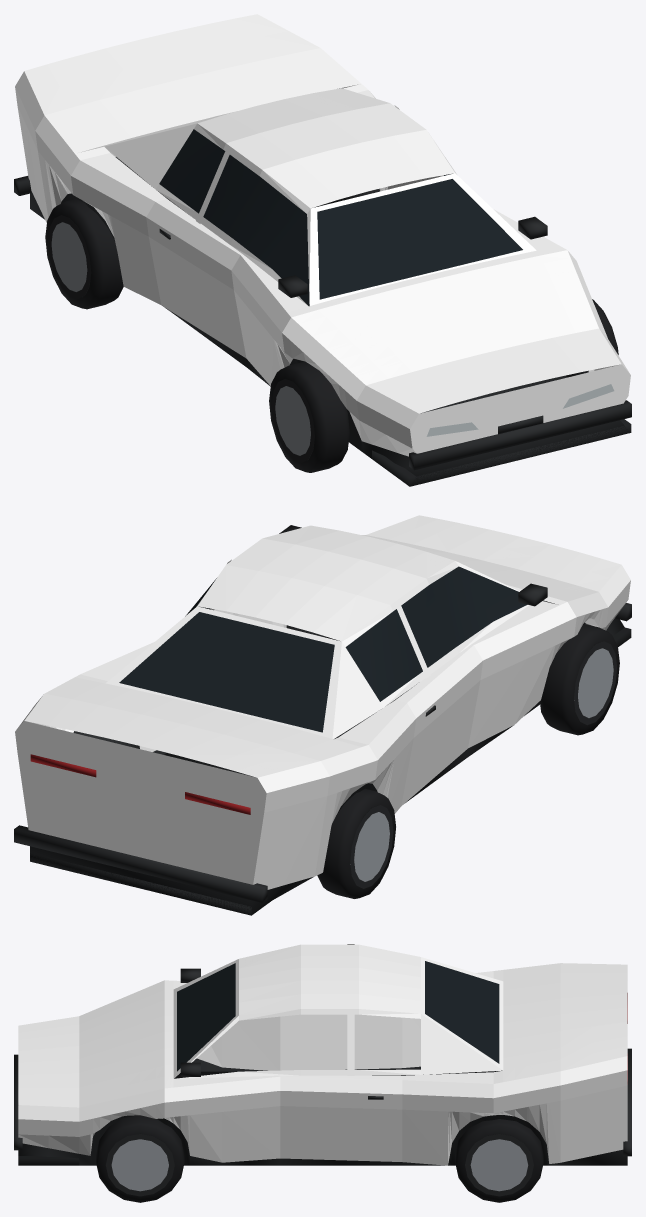
Rendered from vallon_serrilha.glb.
3 views of the same model, one above another, from view 1: azimuth 30°, elevation 25°; view 2: azimuth 150°, elevation 25°; view 3: azimuth 270°, elevation 25° (orthographic). The views are drawn at different scales.
Parts seen in each view (by area): view 1: Body_Paint, Body_Details, Mount_FrontLeft_Wheel_Details, Mount_RearLeft_Wheel_Details; view 2: Body_Paint, Body_Details, Mount_FrontLeft_Wheel_Details, Mount_RearLeft_Wheel_Details; view 3: Body_Paint, Body_Details, Mount_FrontRight_Wheel_Details, Mount_RearRight_Wheel_Details.
Boxes of the visible parts, <box> form: Body_Paint: <box>15,14,630,456</box>; Body_Details: <box>14,129,631,486</box>; Mount_FrontLeft_Wheel_Details: <box>269,361,349,472</box>; Mount_RearLeft_Wheel_Details: <box>45,199,123,309</box>; Body_Paint: <box>15,515,630,889</box>; Body_Details: <box>14,525,631,915</box>; Mount_FrontLeft_Wheel_Details: <box>540,623,619,735</box>; Mount_RearLeft_Wheel_Details: <box>317,788,395,898</box>; Body_Paint: <box>18,944,627,1165</box>; Body_Details: <box>14,961,631,1165</box>; Mount_FrontRight_Wheel_Details: <box>96,1115,184,1202</box>; Mount_RearRight_Wheel_Details: <box>455,1119,543,1202</box>.
Size of the model in its own units: 1.83 by 1.22 by 3.97.
2 materials, 1 textured.
